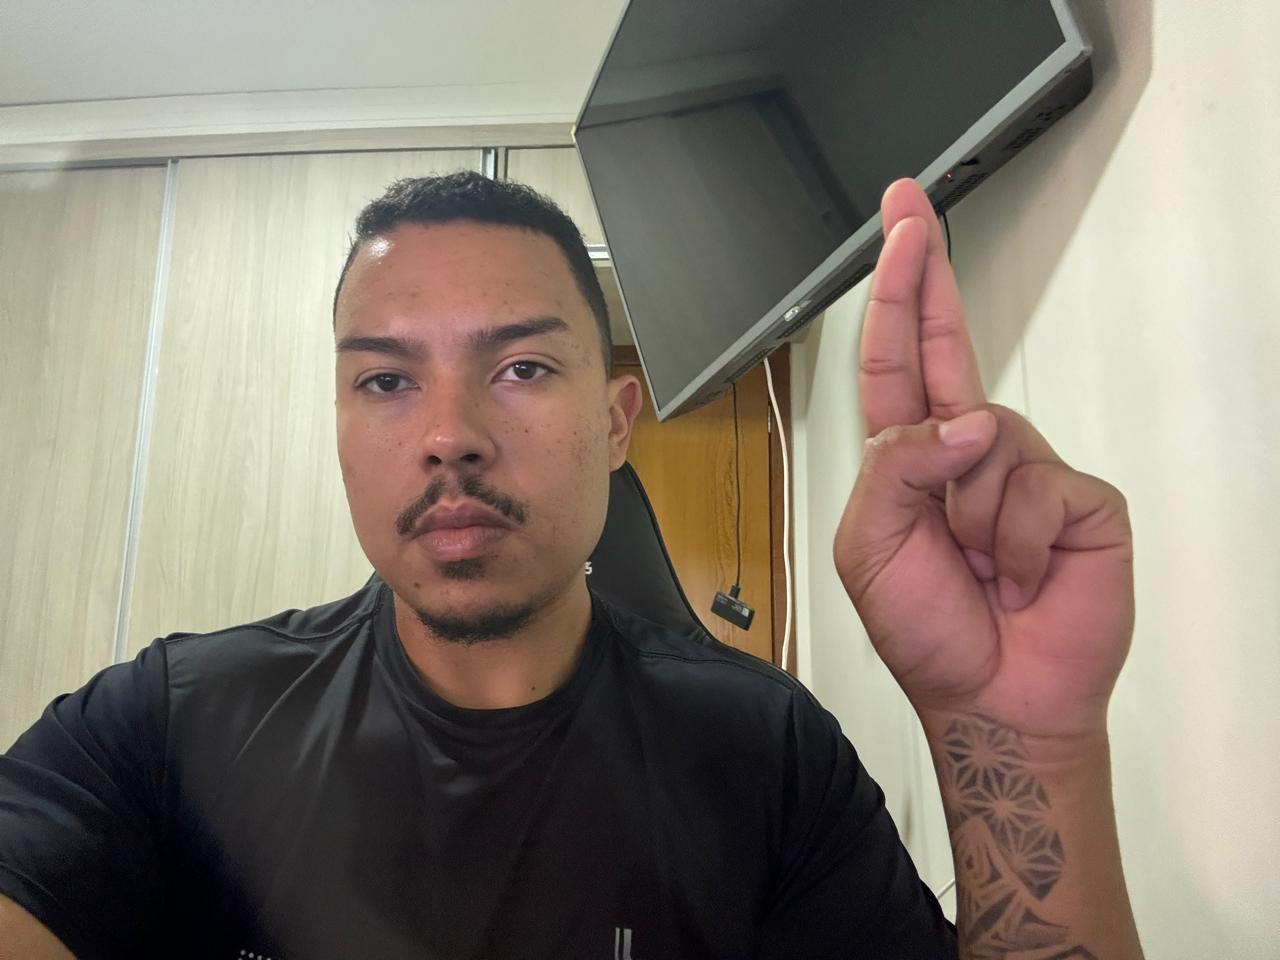r: (827, 173, 1143, 747)
